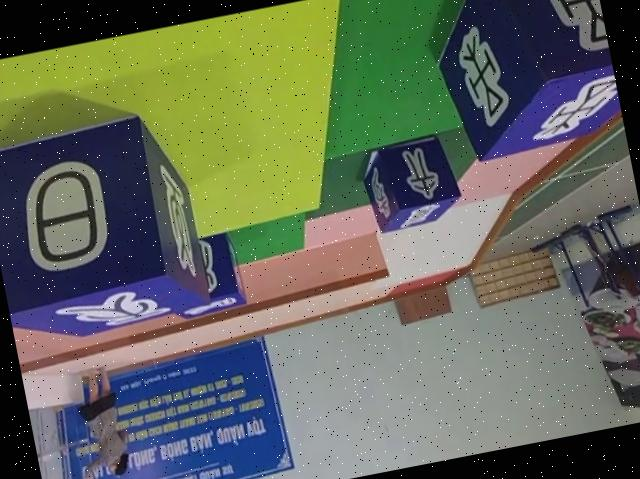R2 Fake Blue: (0, 109, 214, 355), (354, 130, 464, 235)
R2 Real Blue: (419, 0, 627, 175)
